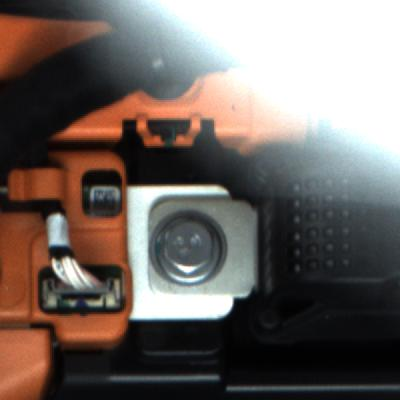nut_b: (148, 209, 231, 289)
